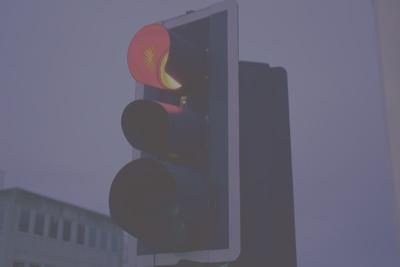International Road Signal Light: (111, 26, 214, 253)
